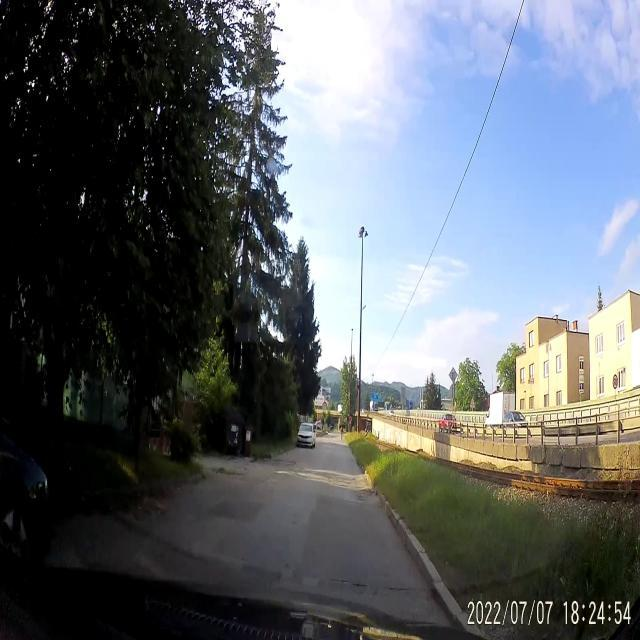Pothole: (356, 484, 378, 508), (346, 577, 370, 597), (272, 457, 296, 469)
